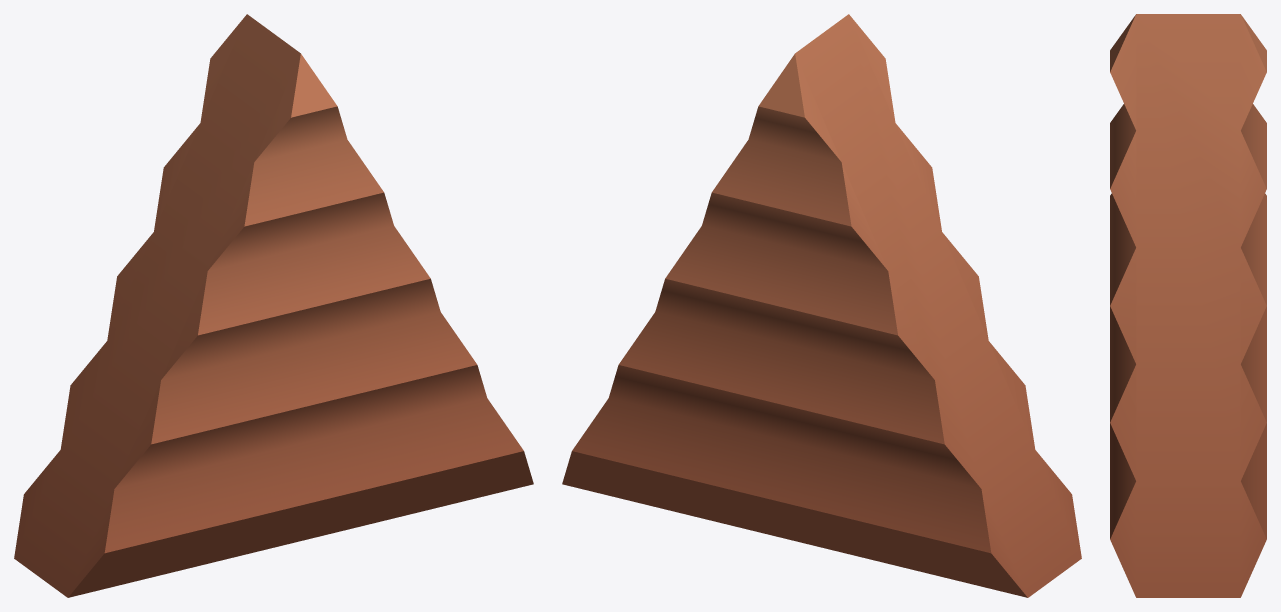
The model's file is cabin-wall-roof-center.glb.
3 views of the same model, side by side, from view 1: azimuth 30°, elevation 25°; view 2: azimuth 150°, elevation 25°; view 3: azimuth 270°, elevation 25° (orthographic). The views are drawn at different scales.
Parts seen in each view (by area): view 1: cabin-wall-roof-center; view 2: cabin-wall-roof-center; view 3: cabin-wall-roof-center.
Part boxes in pixels (x1,y1,x2,y2): cabin-wall-roof-center: (14, 14, 533, 597); cabin-wall-roof-center: (562, 14, 1081, 597); cabin-wall-roof-center: (1110, 14, 1266, 597).
Bounding box in the file's own units: 1 × 1 × 0.3.
